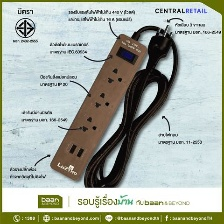three_eye_plug: (47, 31, 149, 183)
